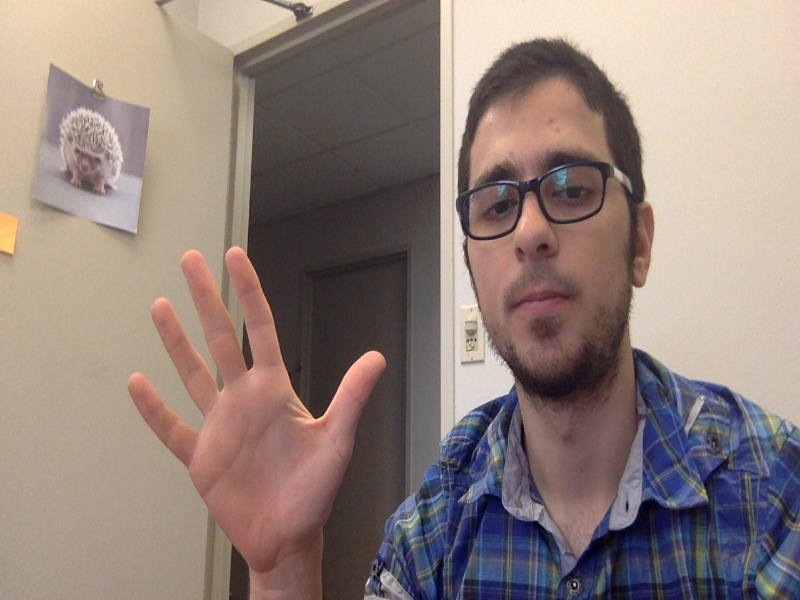5-hand: (126, 251, 385, 547)
